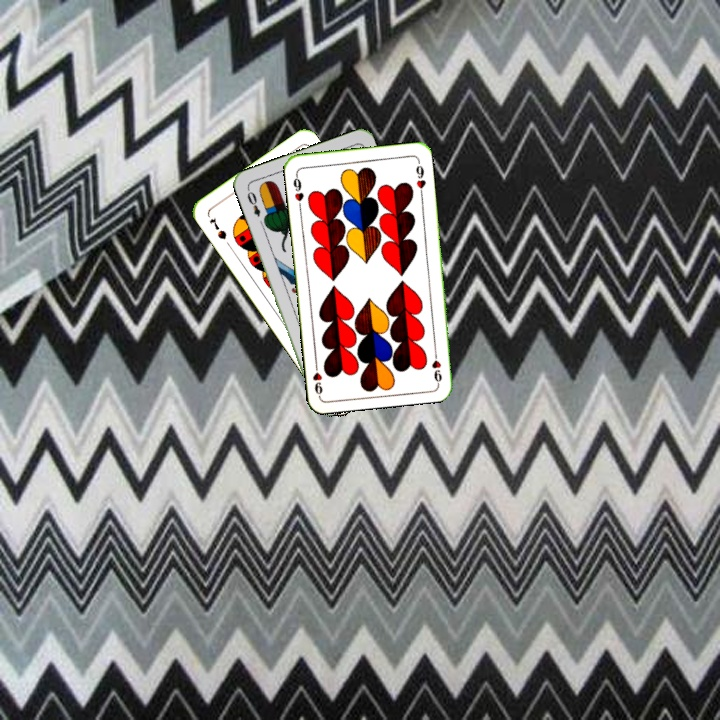EO: (243, 184, 263, 219)
H9: (289, 169, 306, 210), (428, 345, 444, 385)
S7: (206, 214, 229, 242)
